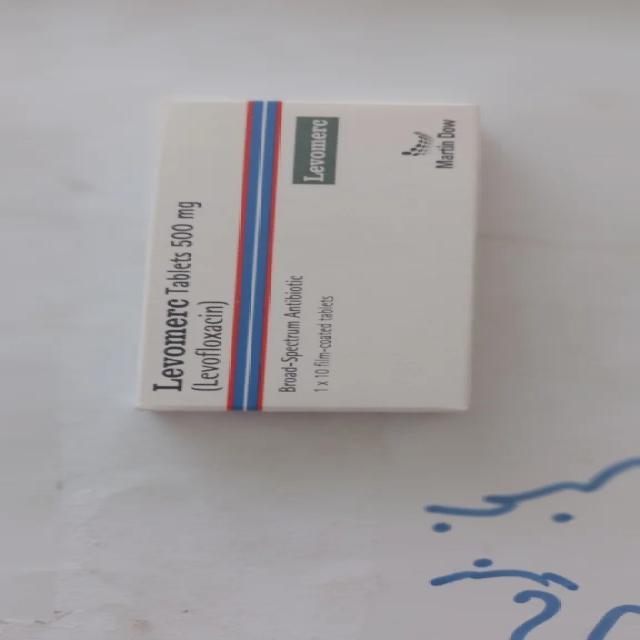drug-name: (301, 116, 332, 182)
